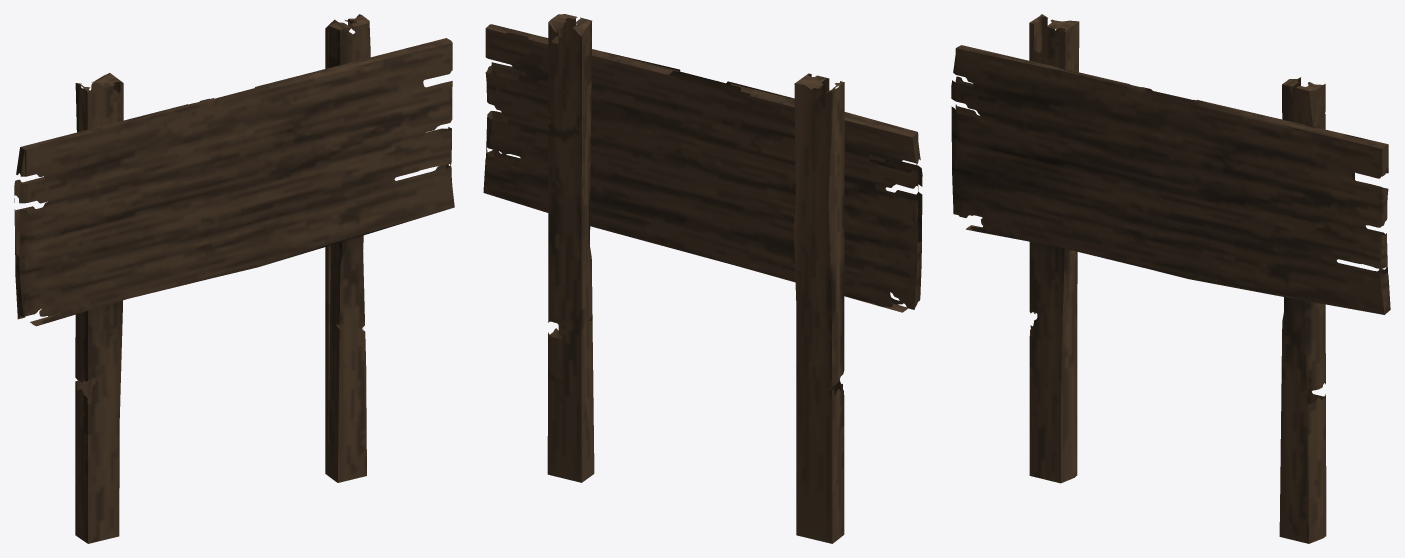
Rendered from Sign.fbx.
3 views of the same model, side by side, from view 1: azimuth 30°, elevation 25°; view 2: azimuth 150°, elevation 25°; view 3: azimuth 330°, elevation 25° (orthographic).
Parts seen in each view (by area): view 1: Sign; view 2: Sign; view 3: Sign.
Part boxes in pixels (x1=…): Sign: x1=14, y1=14, x2=454, y2=543; Sign: x1=483, y1=14, x2=922, y2=543; Sign: x1=951, y1=14, x2=1390, y2=543.
Size of the model in its own units: 0.6033 by 0.6008 by 0.0511.
